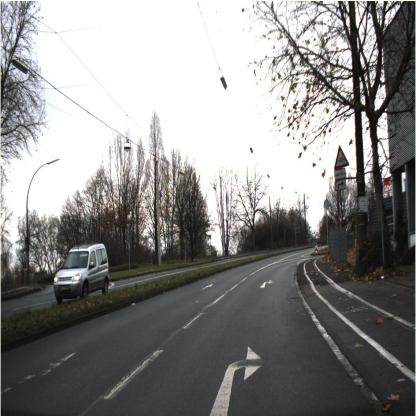danger: (329, 140, 353, 175)
